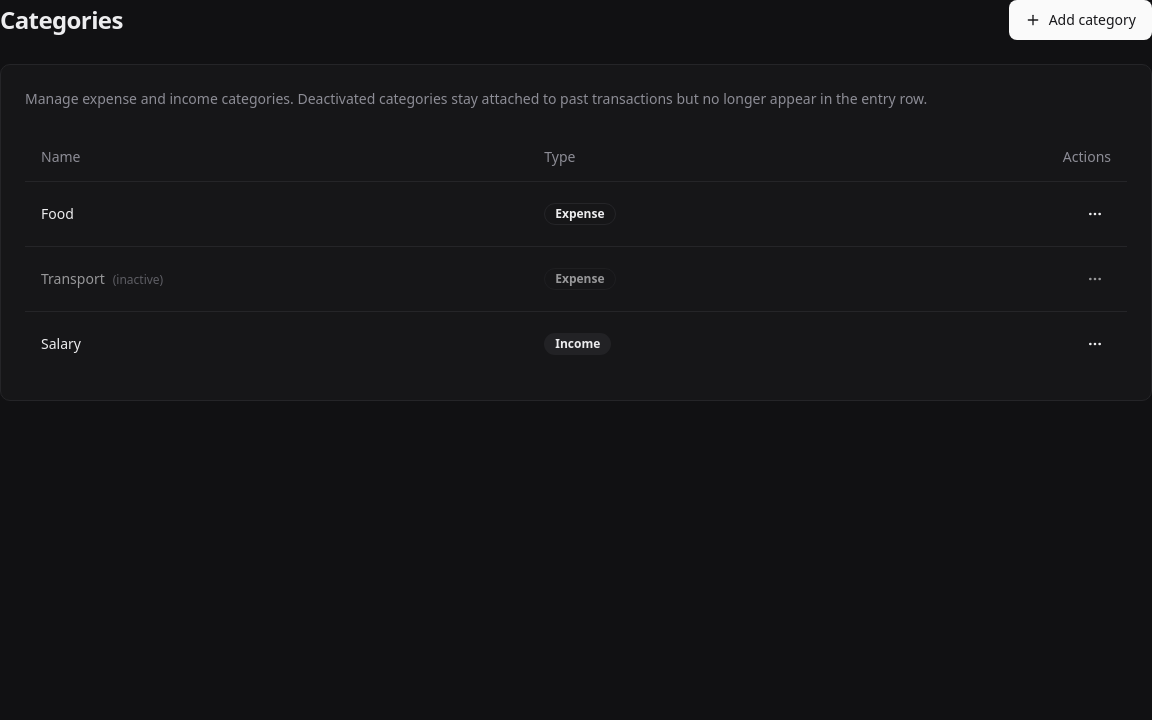
Categories › as admin › Edit menu item opens a Sheet with existing category values
Expected: the text "Food" is shown, x1=25 y1=181 x2=528 y2=246
Click the button named "actions for food": coordinates (1095, 214) x1=1079 y1=198 x2=1111 y2=230
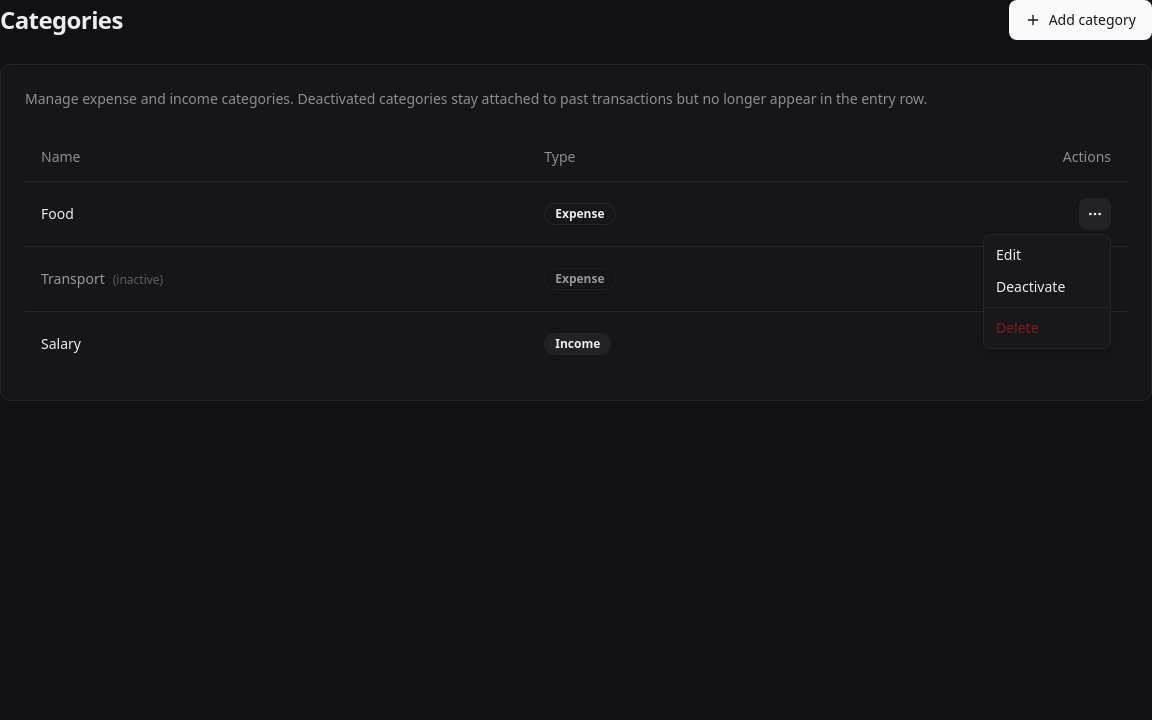
Click the menu item "Edit": coordinates (1009, 254) x1=996 y1=245 x2=1021 y2=264
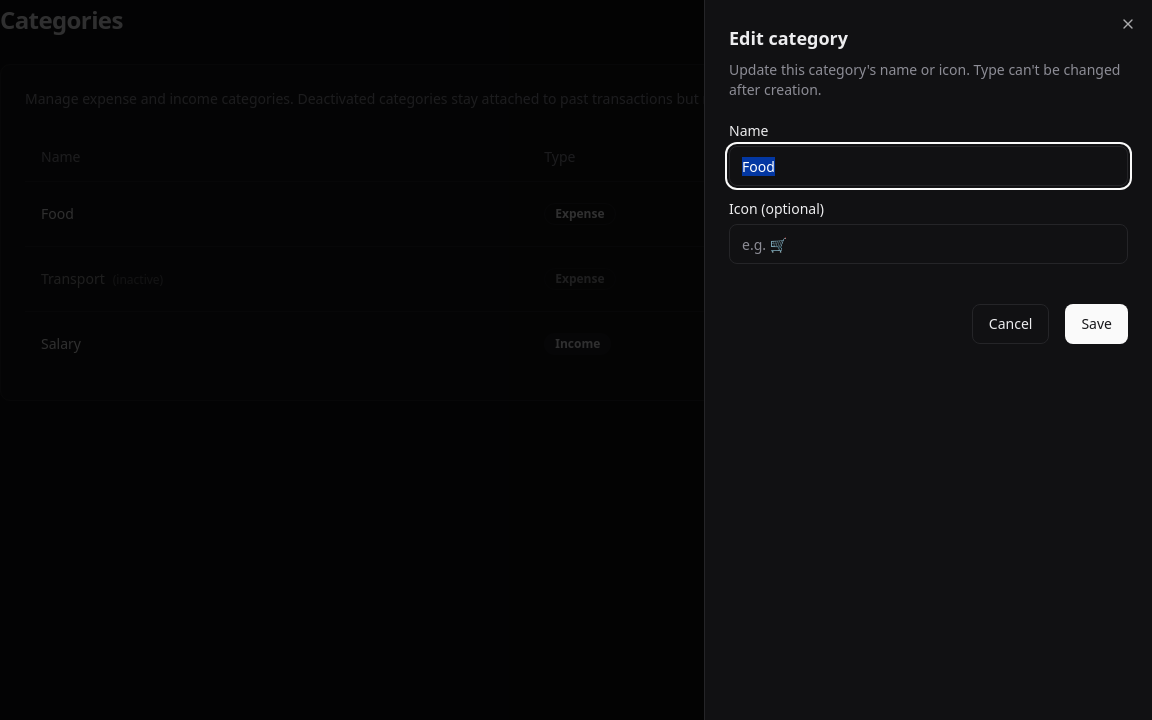
Expected: the dialog is shown, x1=704 y1=0 x2=1151 y2=719
Expected: the field labelled "Name" holds "Food", x1=729 y1=146 x2=1128 y2=186
